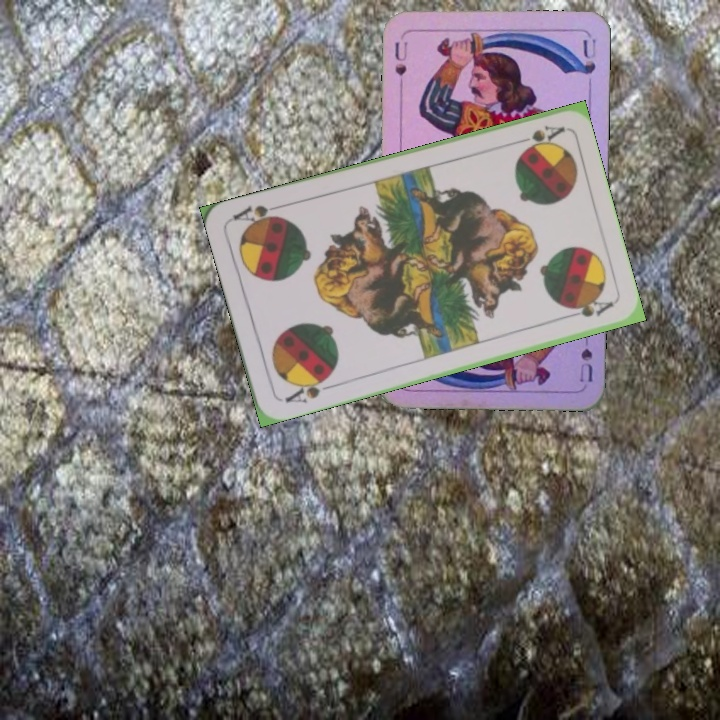SA: (280, 371, 336, 406), (508, 121, 567, 153)
SU: (576, 326, 595, 385), (390, 37, 410, 92)
